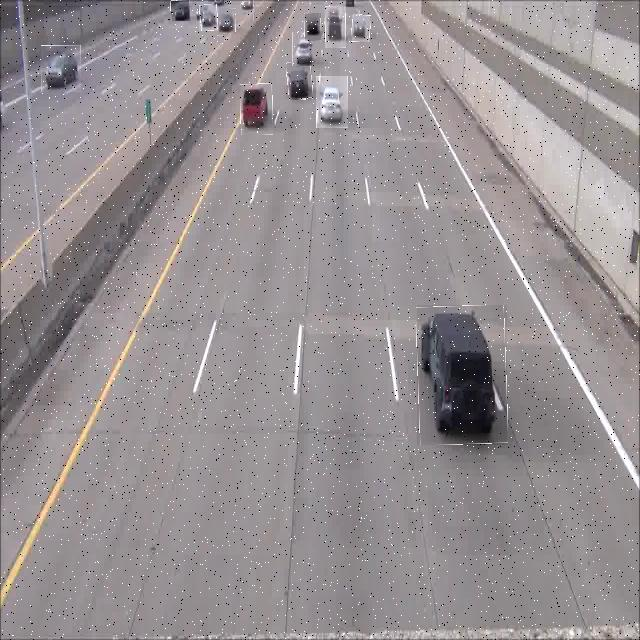Car: (41, 45, 81, 92), (316, 76, 348, 128), (287, 62, 312, 100), (292, 32, 313, 66), (218, 8, 236, 36), (199, 5, 218, 31), (352, 15, 370, 42), (305, 13, 321, 41), (171, 0, 190, 21)
Truck: (417, 305, 507, 445), (241, 84, 273, 135), (325, 6, 346, 48)
